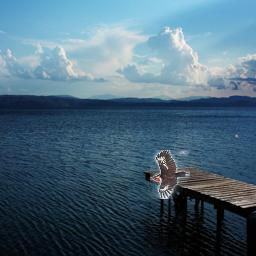Woodpecker: (150, 150, 190, 199)
